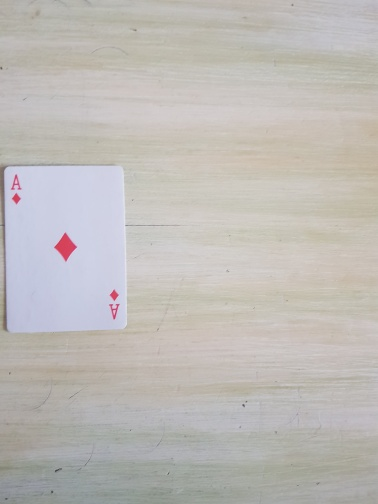ace: (3, 165, 129, 334)
